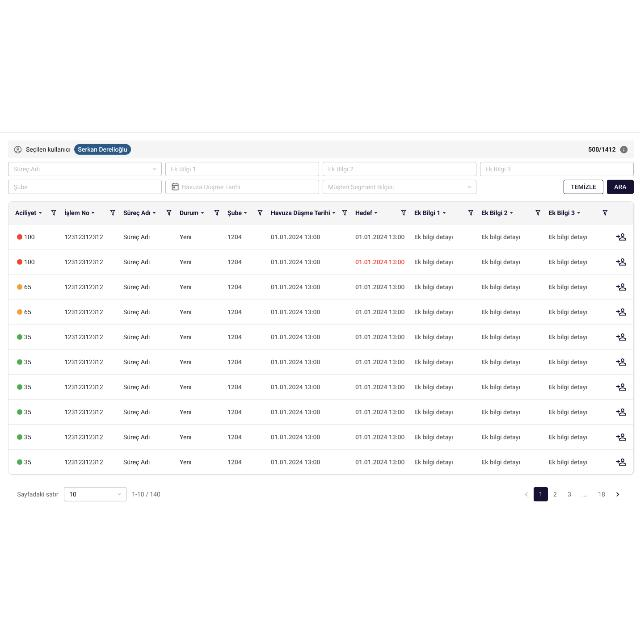QLabel: (77, 146, 127, 152), (26, 146, 70, 152), (588, 145, 616, 151), (570, 183, 596, 189), (613, 184, 627, 188)
VBtn: (563, 178, 603, 194), (606, 178, 634, 194)
VCard: (8, 138, 634, 158)
VChip: (74, 142, 130, 154)
VCombobox: (8, 160, 162, 176), (323, 178, 477, 194)
VDataTable: (7, 198, 636, 502)
VIcon: (620, 145, 628, 153), (14, 144, 22, 152)
VInlineDatepicker: (165, 178, 319, 194)
VTextField: (8, 178, 162, 194), (165, 160, 319, 176), (323, 160, 477, 176), (480, 160, 634, 176)
